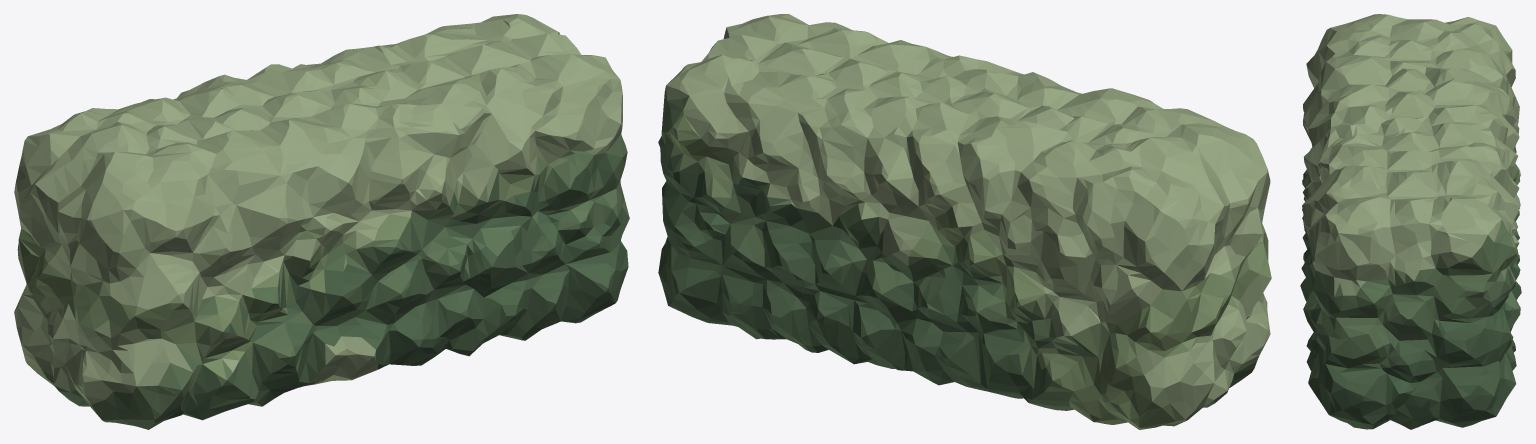
The model's file is hedge.glb.
3 views of the same model, side by side, from view 1: azimuth 30°, elevation 25°; view 2: azimuth 150°, elevation 25°; view 3: azimuth 270°, elevation 25° (orthographic). The views are drawn at different scales.
Visible parts, largest first — view 1: geometry_0; view 2: geometry_0; view 3: geometry_0.
Part boxes in pixels (bbox=[...]): geometry_0: bbox=[14, 14, 629, 429]; geometry_0: bbox=[658, 14, 1271, 429]; geometry_0: bbox=[1300, 14, 1521, 429].
Size of the model in its own units: 1.98 by 0.9435 by 0.8149.
